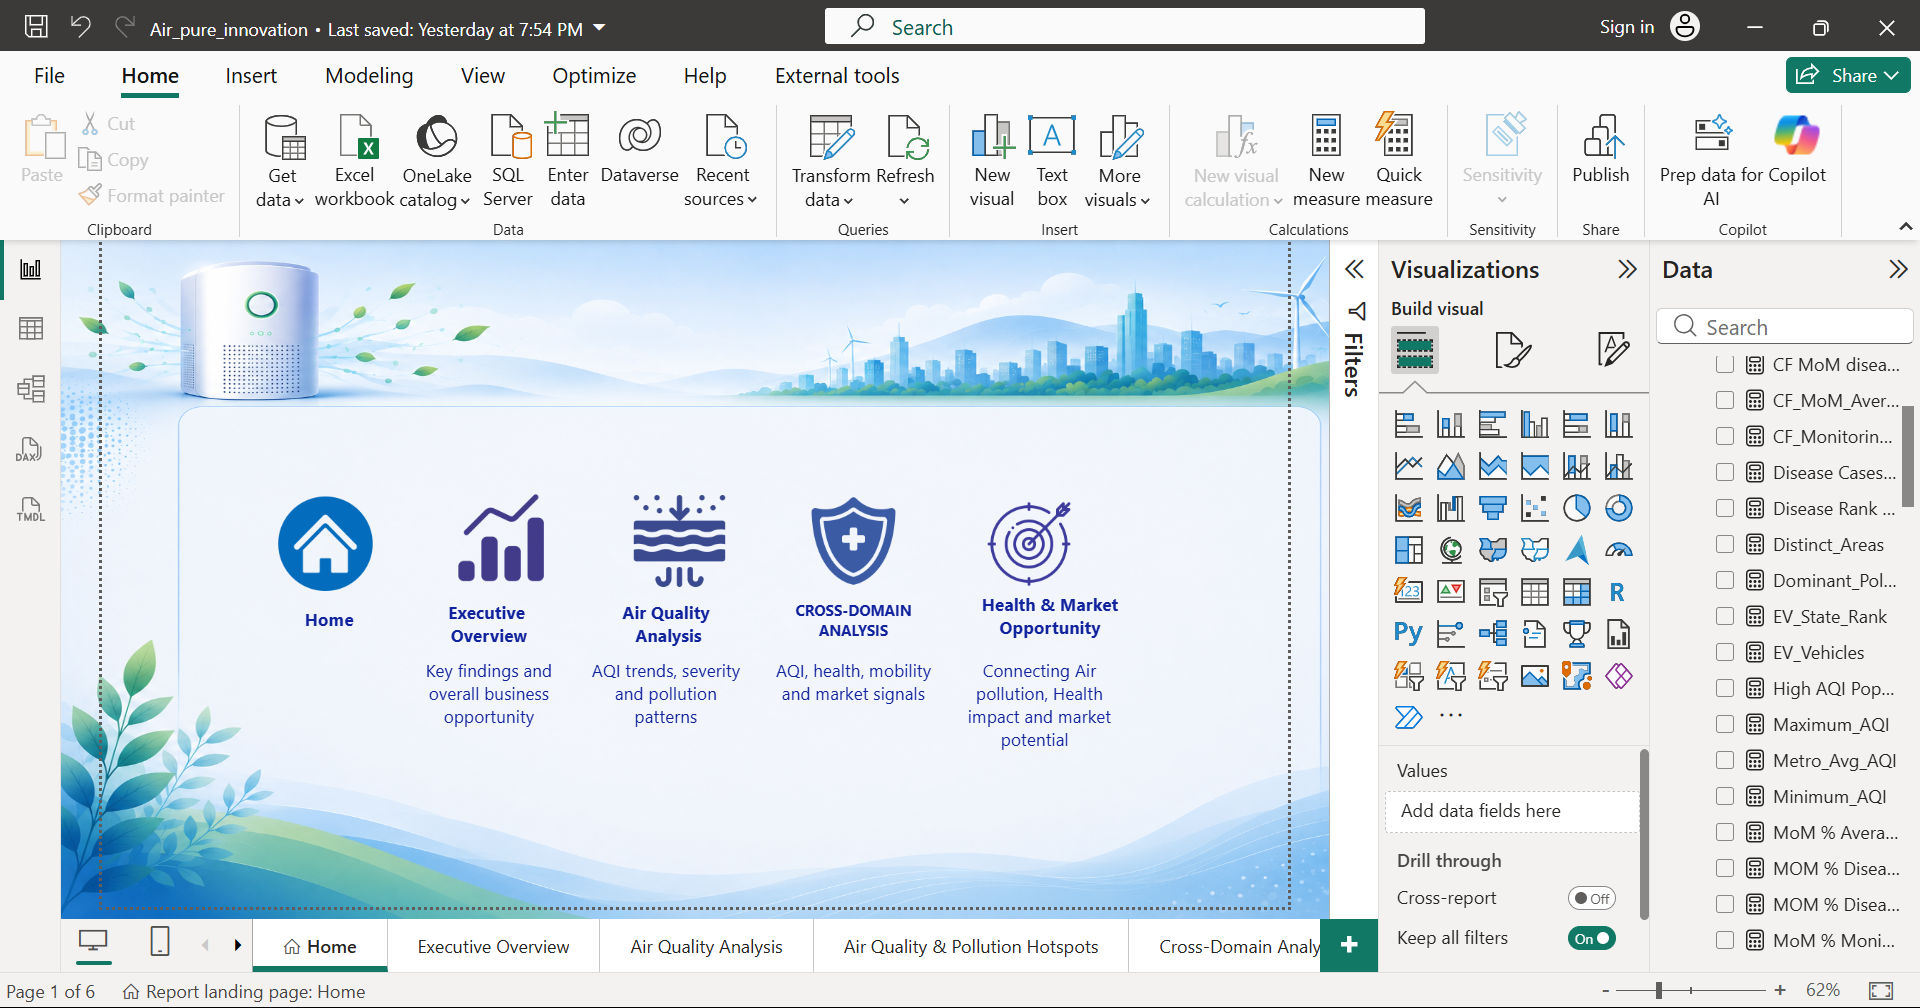

The dashboard page shown, as its layout file describes it:
{"tool":"powerbi","page":{"name":"Home","canvas":[1280,720],"ordinal":0},"visuals":[{"type":"image","box":[186.2,276.9,110.1,102],"z":0},{"type":"image","box":[371.6,268.8,119.8,105.2],"z":1000},{"type":"image","box":[566.7,275.3,113.3,99.2],"z":2000},{"type":"image","box":[755.4,275.3,113.3,99.2],"z":3000},{"type":"image","box":[944,278.5,113.3,99.2],"z":4000},{"type":"textbox","box":[326.3,387,181.4,58.3],"z":4001},{"type":"textbox","box":[139.3,390.2,181.4,50.2],"z":4002},{"type":"textbox","box":[194.3,395.1,102,50.2],"z":4003},{"type":"textbox","box":[537.6,387,142.5,58.3],"z":4004},{"type":"textbox","box":[720.6,387,181.4,50.2],"z":4005},{"type":"textbox","box":[921.3,378.9,204,58.3],"z":4006},{"type":"textbox","box":[327.1,450.1,181.4,77.7],"z":4008},{"type":"textbox","box":[518.2,450.1,181.4,77.7],"z":4009},{"type":"textbox","box":[720.6,450.1,181.4,77.7],"z":4010},{"type":"textbox","box":[921.3,450.1,181.4,105.2],"z":4011}]}

Visuals, with their boxes on the page's 1280x720 design canvas (x1, y1, x2, y2). These are canvas units, not pixel positions in the 1920x1008 screenshot, which may show the page scaled, cropped or inside an application window:
image: bbox(186, 277, 296, 379)
image: bbox(372, 269, 491, 374)
image: bbox(567, 275, 680, 374)
image: bbox(755, 275, 869, 374)
image: bbox(944, 278, 1057, 378)
textbox: bbox(326, 387, 508, 445)
textbox: bbox(139, 390, 321, 440)
textbox: bbox(194, 395, 296, 445)
textbox: bbox(538, 387, 680, 445)
textbox: bbox(721, 387, 902, 437)
textbox: bbox(921, 379, 1125, 437)
textbox: bbox(327, 450, 508, 528)
textbox: bbox(518, 450, 700, 528)
textbox: bbox(721, 450, 902, 528)
textbox: bbox(921, 450, 1103, 555)
